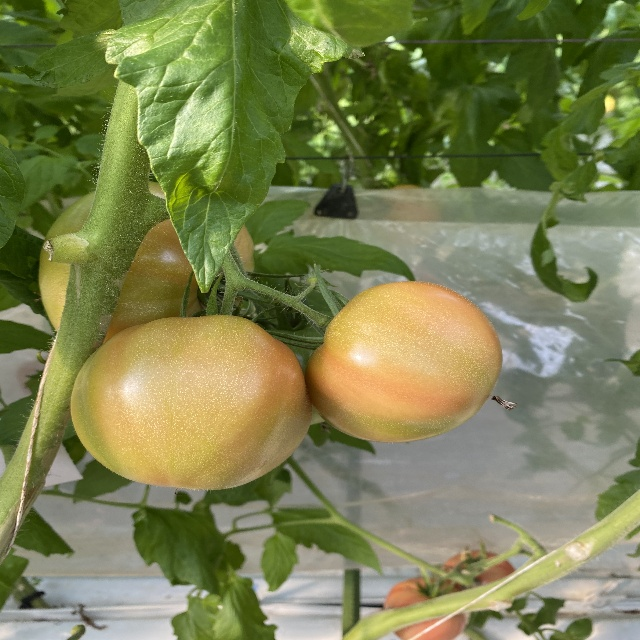b_half_ripened: (69, 314, 311, 490), (39, 180, 254, 351), (304, 280, 503, 443), (383, 577, 470, 639), (442, 551, 515, 591)
